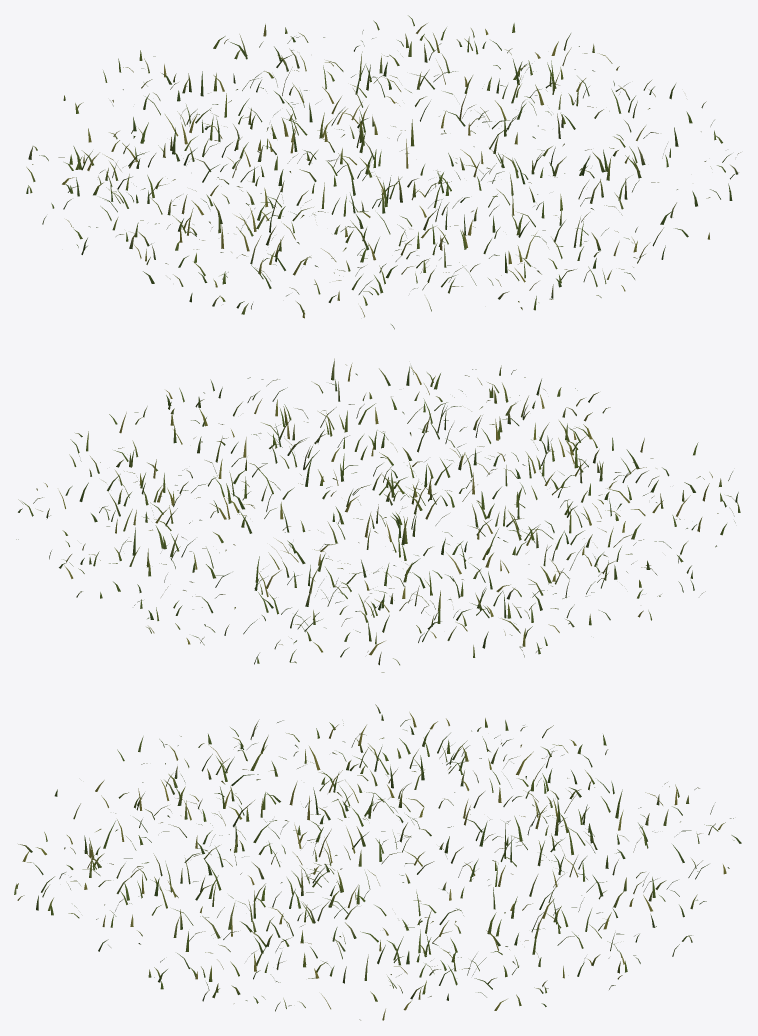
File: carpet_far_green.glb
3 views of the same model, one above another, from view 1: azimuth 30°, elevation 25°; view 2: azimuth 150°, elevation 25°; view 3: azimuth 270°, elevation 25° (orthographic).
Parts seen in each view (by area): view 1: carpet_far_green; view 2: carpet_far_green; view 3: carpet_far_green.
Part boxes in pixels (x1,y1,x2,y2): carpet_far_green: [26, 15, 740, 329]; carpet_far_green: [16, 358, 740, 672]; carpet_far_green: [14, 704, 741, 1020].
Bounding box in the file's own units: 4.02 × 0.1806 × 3.95.
